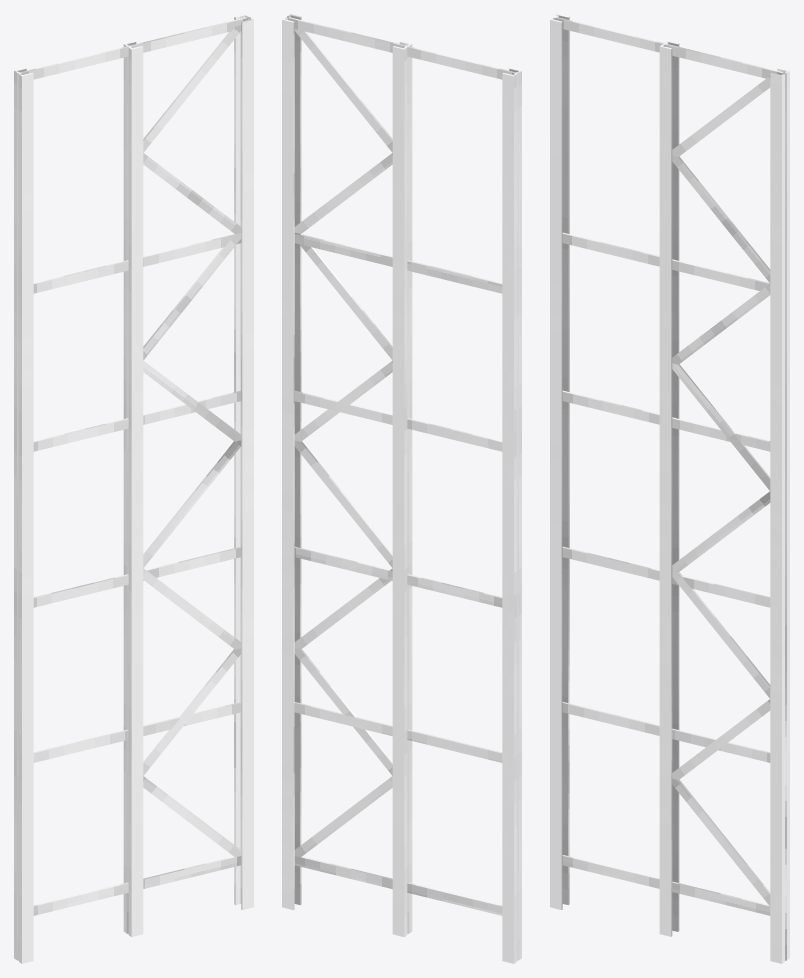
File: StorageRackWideShortBeams.glb
3 views of the same model, side by side, from view 1: azimuth 30°, elevation 25°; view 2: azimuth 150°, elevation 25°; view 3: azimuth 330°, elevation 25° (orthographic).
Visible parts, largest first — view 1: StorageRackWideShortBeams; view 2: StorageRackWideShortBeams; view 3: StorageRackWideShortBeams.
Boxes of the visible parts, x1=… form: StorageRackWideShortBeams: x1=14, y1=14, x2=253, y2=963; StorageRackWideShortBeams: x1=282, y1=14, x2=521, y2=963; StorageRackWideShortBeams: x1=550, y1=14, x2=789, y2=963.
Bounding box in the file's own units: 1.16 × 4.24 × 0.0683.
1 material, 1 textured.
